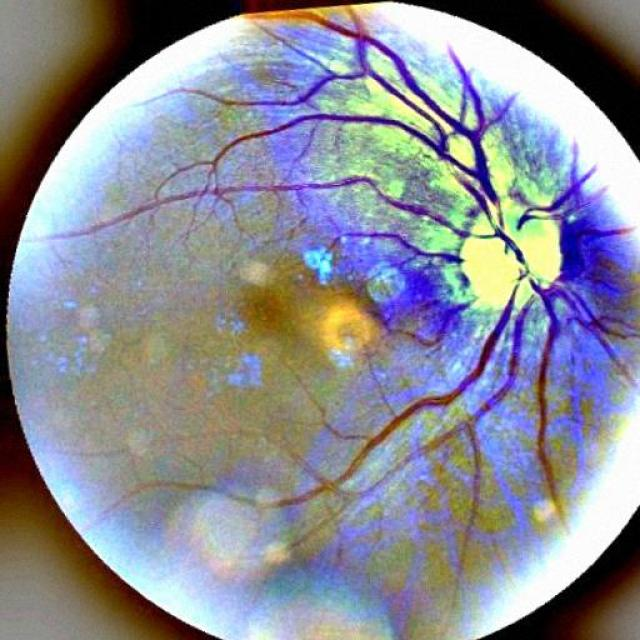Macula: (326, 303, 366, 360)
Nerves: (210, 175, 560, 502), (210, 50, 514, 185), (212, 21, 412, 105), (516, 169, 594, 229), (338, 231, 464, 265)
Optic Disk: (465, 205, 560, 309)
